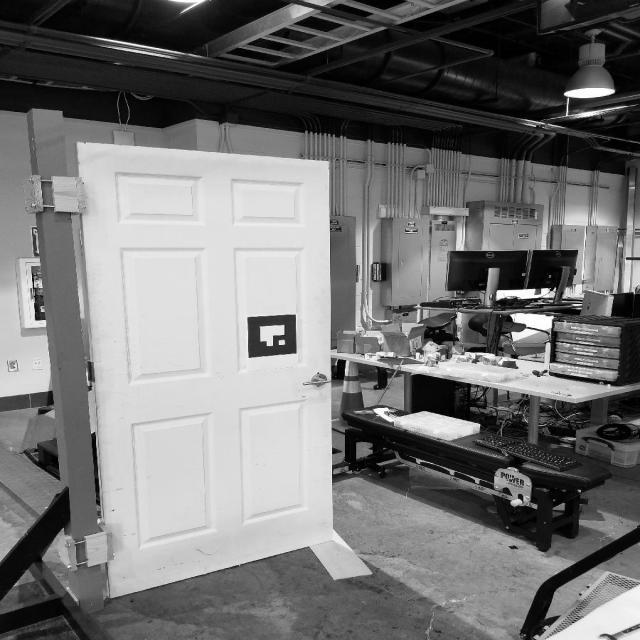door: (69, 139, 343, 602), (296, 372, 336, 390)
